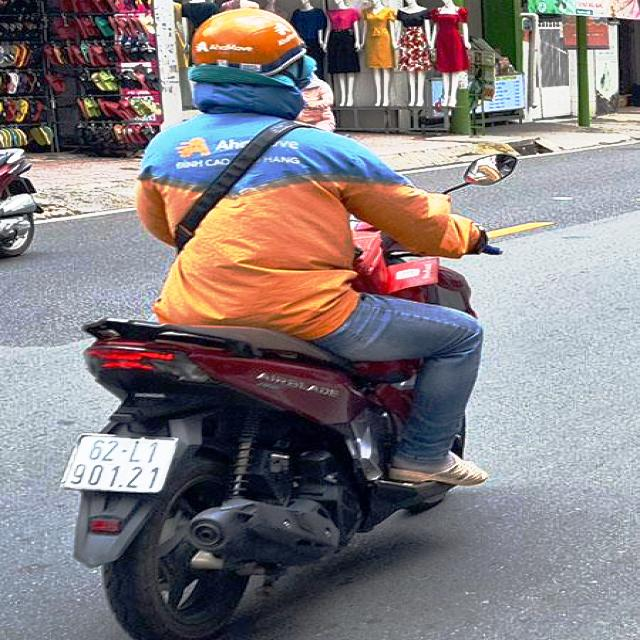license_plate: (63, 435, 181, 492)
